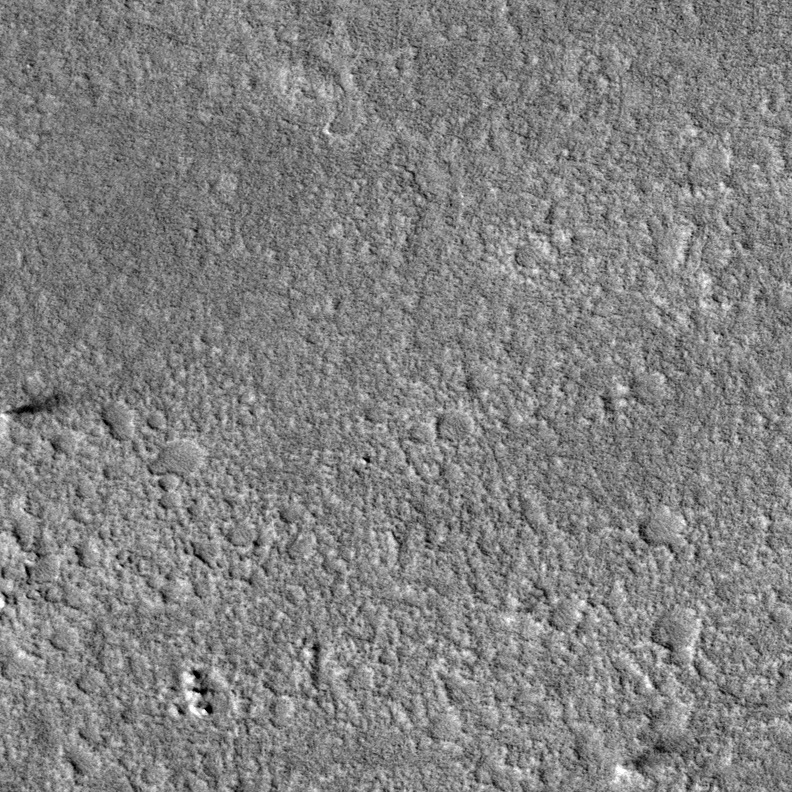dust_devil: (1, 392, 72, 423)
